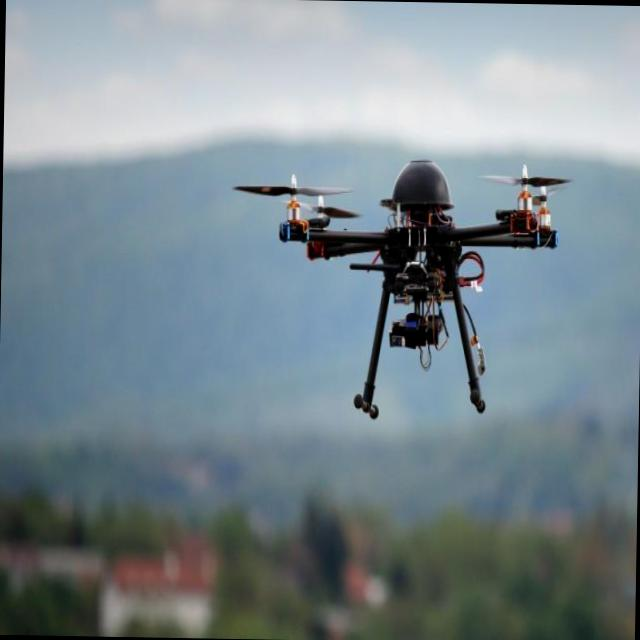drone: (227, 156, 576, 424)
